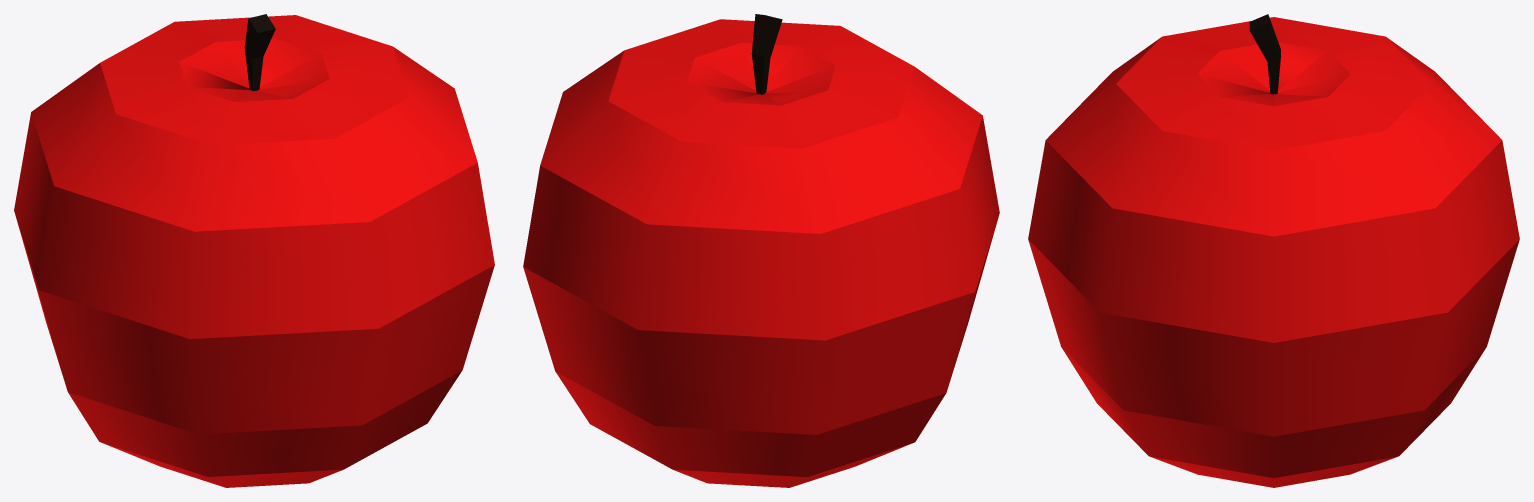
Rendered from Pomme.FBX.
The picture shows the model from 3 angles, left to right: view 1: azimuth 30°, elevation 25°; view 2: azimuth 150°, elevation 25°; view 3: azimuth 270°, elevation 25°; orthographic projection.
Visible parts, largest first — view 1: Line001, Plane001; view 2: Line001, Plane001; view 3: Line001, Plane001.
Boxes of the visible parts, x1,y1,x2,y2 form: Line001: (14,15,494,487); Plane001: (244,14,275,91); Line001: (523,19,999,487); Plane001: (751,14,782,94); Line001: (1028,17,1519,487); Plane001: (1249,14,1280,94).
Bounding box in the file's own units: 94.1 × 91.84 × 94.1.
